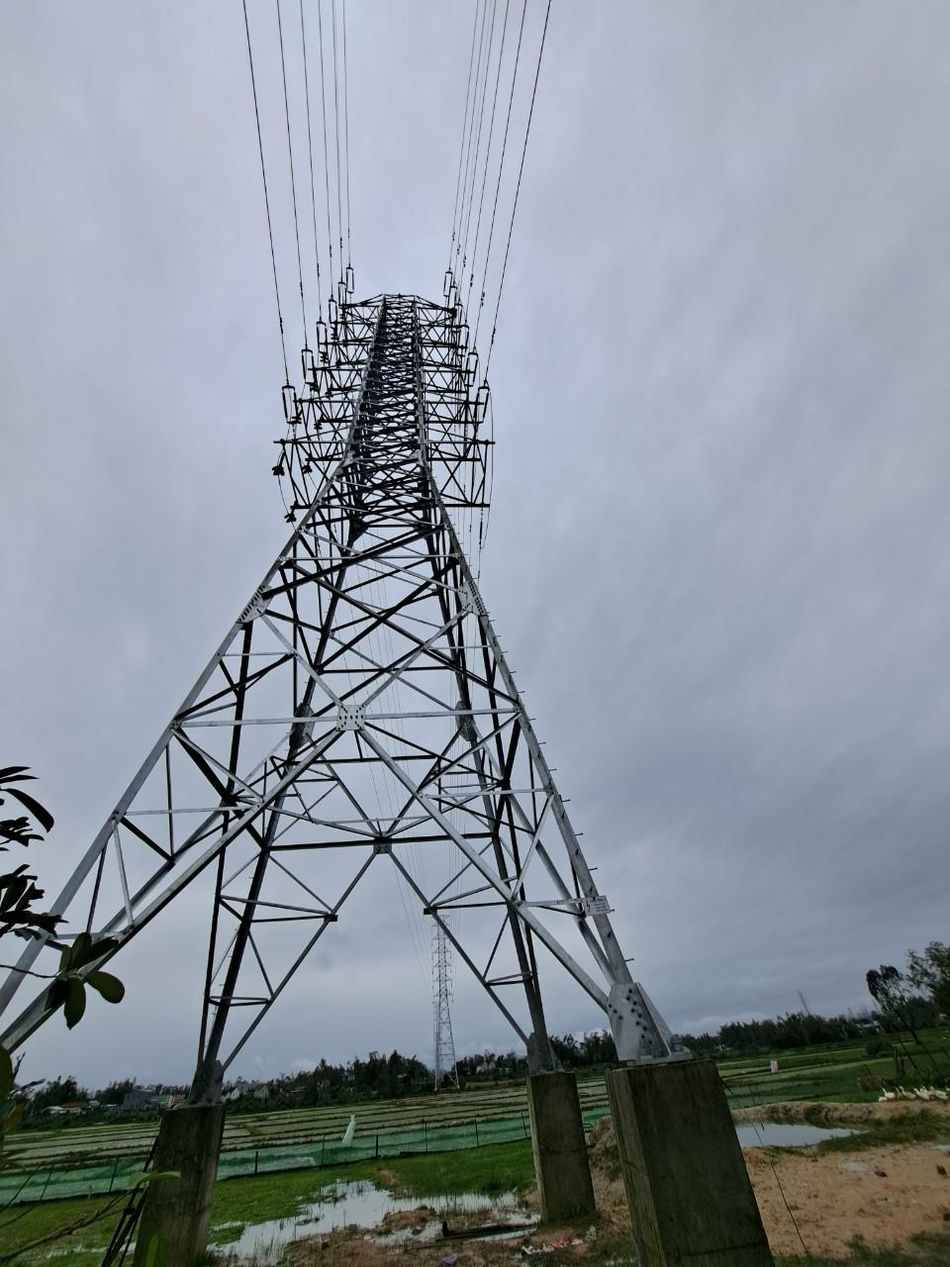power_tower: (20, 245, 669, 1093)
